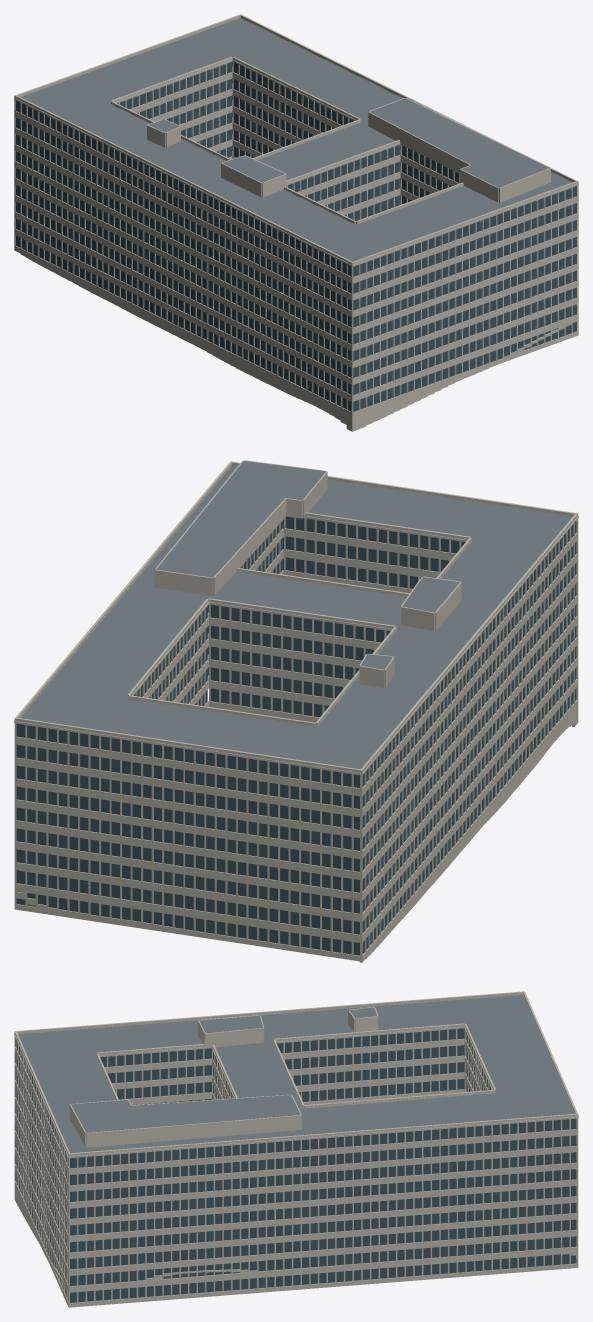
The model's file is authored-schuman.glb.
3 views of the same model, one above another, from view 1: azimuth 30°, elevation 25°; view 2: azimuth 150°, elevation 25°; view 3: azimuth 270°, elevation 25° (orthographic). The views are drawn at different scales.
Parts seen in each view (by area): view 1: R156_STONE_PIERS, R156_WINDOWS, R156_ROOF, R156_WINDOW_SILLS; view 2: R156_STONE_PIERS, R156_WINDOWS, R156_ROOF, R156_WINDOW_SILLS; view 3: R156_STONE_PIERS, R156_WINDOWS, R156_ROOF, R156_WINDOW_SILLS.
Part boxes in pixels (x1=…): R156_STONE_PIERS: x1=14, y1=14, x2=578, y2=431; R156_WINDOWS: x1=16, y1=61, x2=576, y2=411; R156_ROOF: x1=20, y1=18, x2=572, y2=261; R156_WINDOW_SILLS: x1=15, y1=62, x2=576, y2=412; R156_STONE_PIERS: x1=14, y1=460, x2=578, y2=962; R156_WINDOWS: x1=17, y1=516, x2=576, y2=955; R156_ROOF: x1=21, y1=461, x2=572, y2=769; R156_WINDOW_SILLS: x1=16, y1=517, x2=576, y2=955; R156_STONE_PIERS: x1=14, y1=991, x2=578, y2=1307; R156_WINDOWS: x1=15, y1=1028, x2=576, y2=1302; R156_ROOF: x1=18, y1=995, x2=574, y2=1153; R156_WINDOW_SILLS: x1=14, y1=1029, x2=575, y2=1302.
Bounding box in the file's own units: 71.8 × 36.88 × 105.
